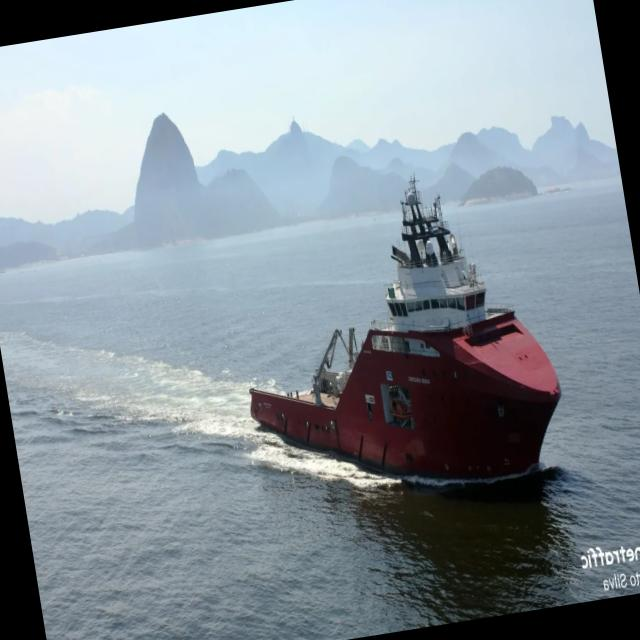Offshore: (251, 176, 561, 483)
